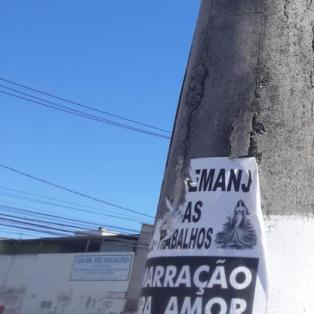Poste: (127, 0, 314, 314)
